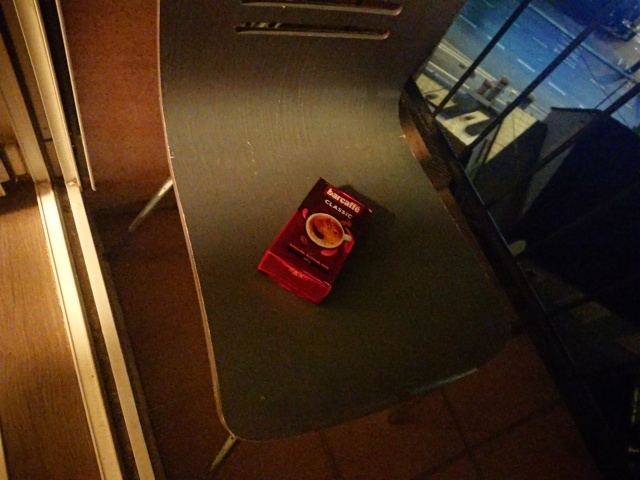Barcaffe Classic Original 225g: (254, 173, 375, 308)
